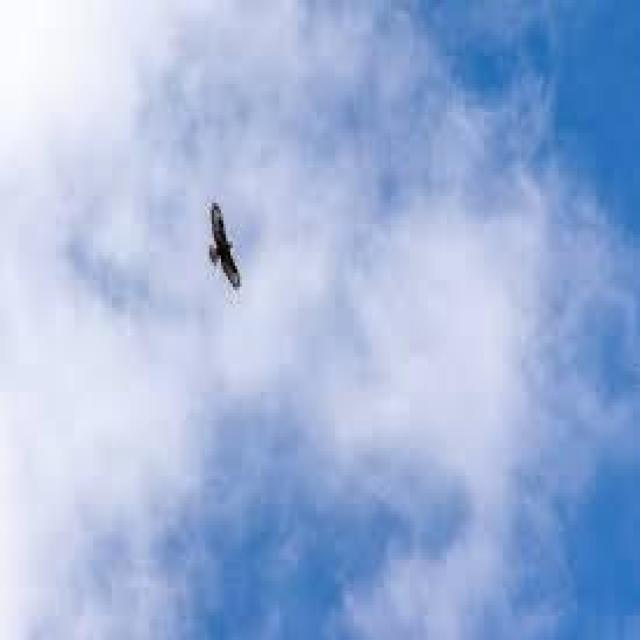bird: (204, 192, 247, 294)
